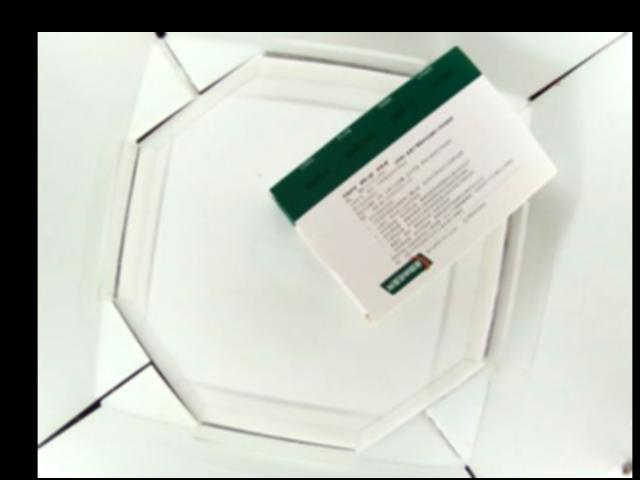Medicine: (268, 45, 556, 321)
